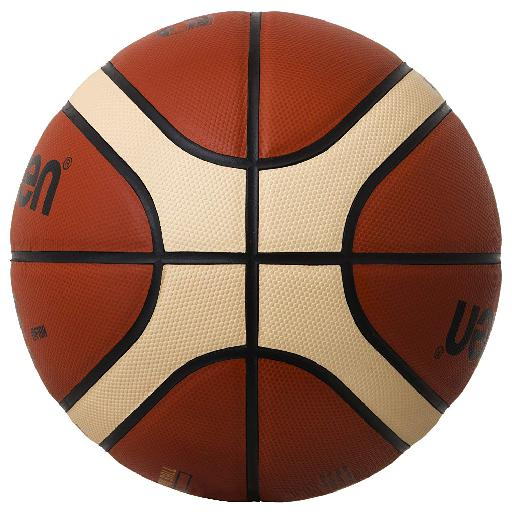ball: (10, 12, 502, 501)
